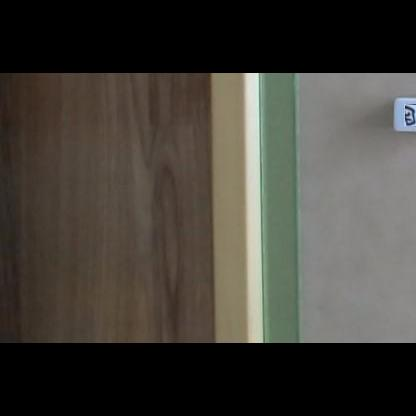3z: (404, 104, 416, 126)
